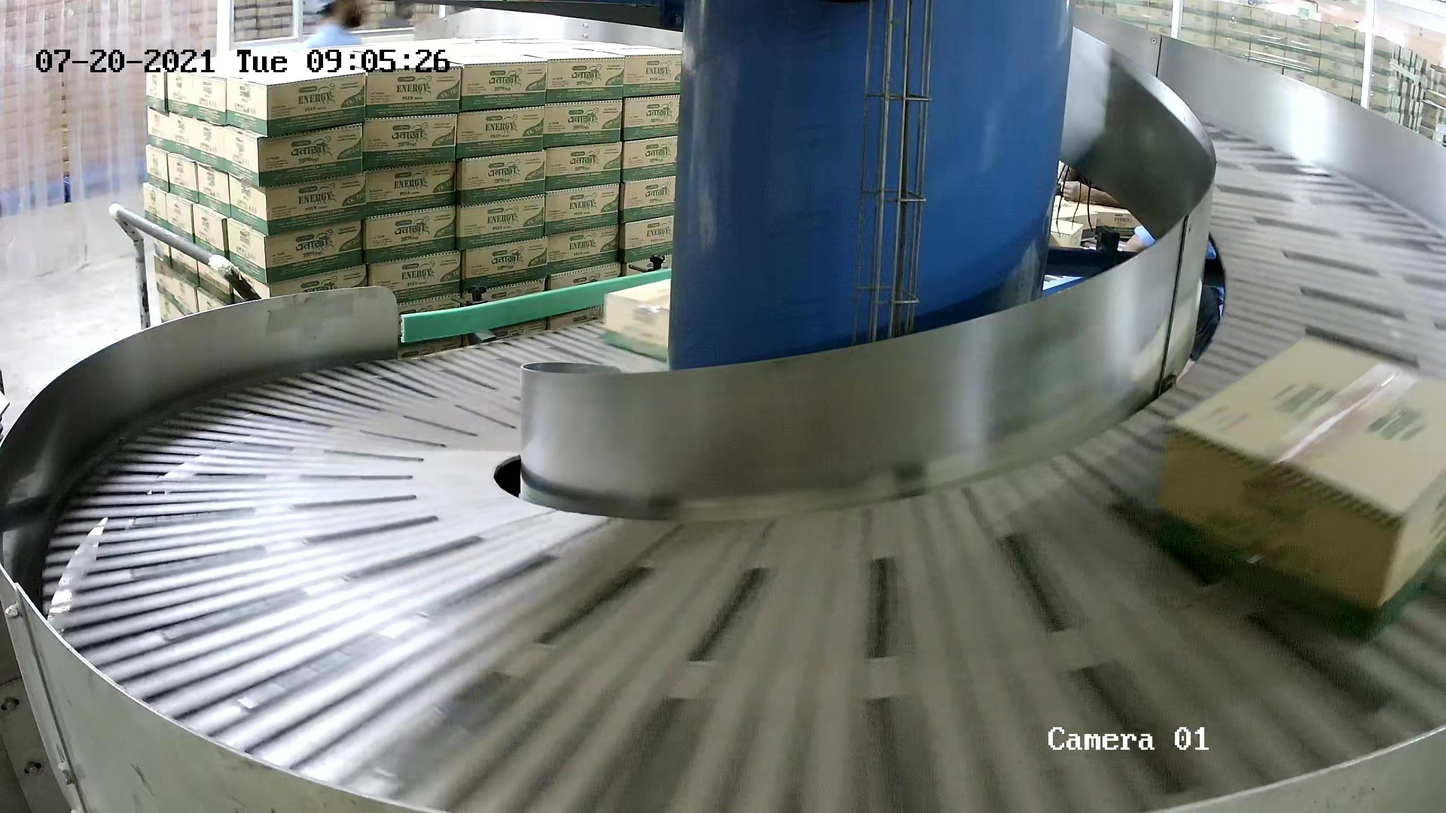Box: (1157, 337, 1446, 644), (603, 271, 733, 364)
